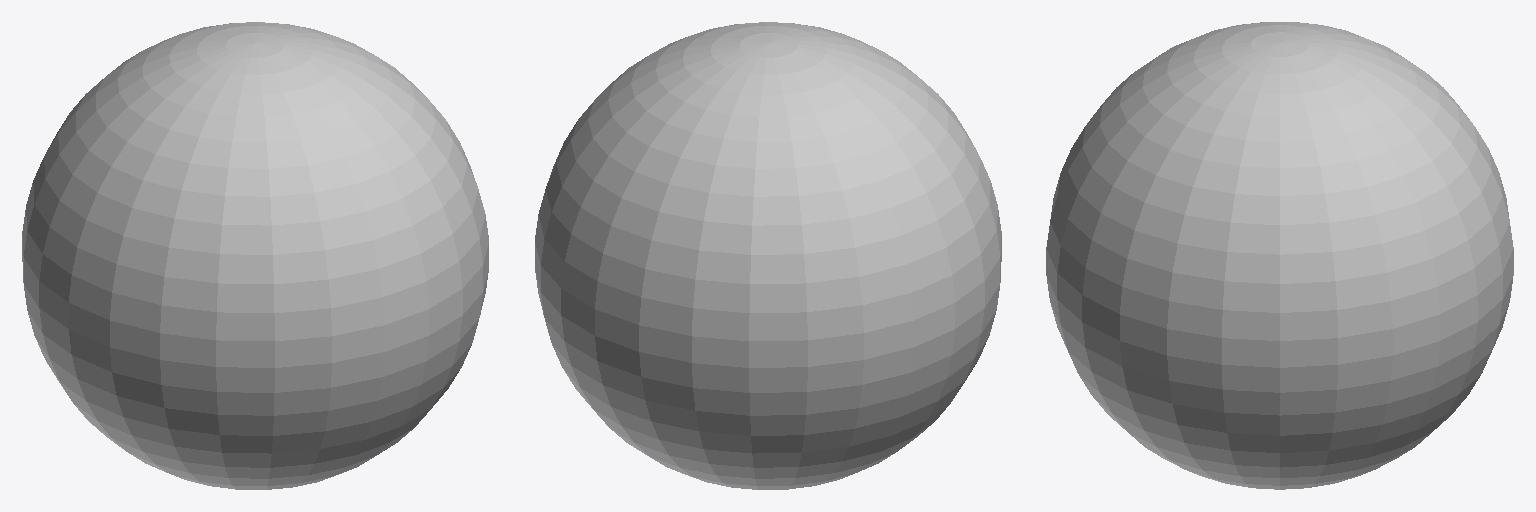
The model's file is mercury.obj.
The picture shows the model from 3 angles: view 1: azimuth 30°, elevation 25°; view 2: azimuth 150°, elevation 25°; view 3: azimuth 270°, elevation 25°; orthographic projection.
Parts seen in each view (by area): view 1: mercury; view 2: mercury; view 3: mercury.
Part boxes in pixels (x1,y1,x2,y2): mercury: (22, 22, 488, 489); mercury: (535, 22, 1001, 489); mercury: (1046, 22, 1513, 489).
Bounding box in the file's own units: 38.71 × 38.94 × 38.78.